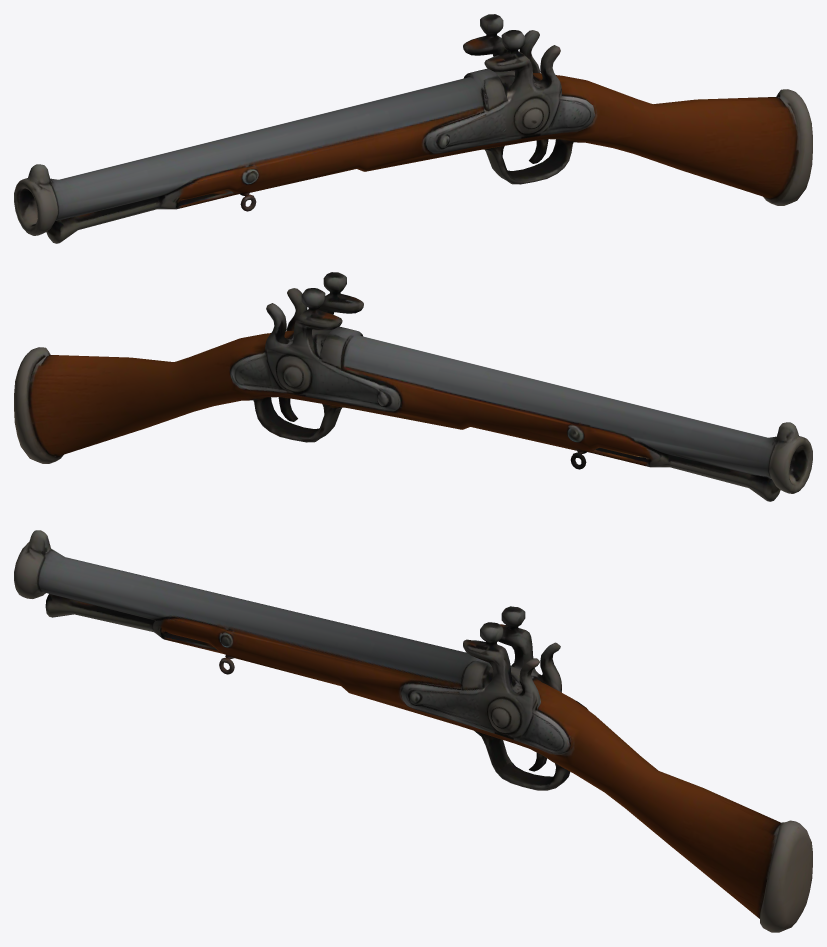
File: Weapons__musket_rifle_11b81839_v2.cluster.glb
The picture shows the model from 3 angles, top to bottom: view 1: azimuth 30°, elevation 25°; view 2: azimuth 150°, elevation 25°; view 3: azimuth 330°, elevation 25°; orthographic projection.
Parts seen in each view (by area): view 1: mesh_input; view 2: mesh_input; view 3: mesh_input.
Boxes of the visible parts, left/top/right/bottom form: mesh_input: left=14, top=14, right=812, bottom=243; mesh_input: left=14, top=272, right=812, bottom=501; mesh_input: left=14, top=530, right=812, bottom=932.
Bounding box in the file's own units: 1.9 × 0.5781 × 0.1601.
1 material, 1 textured.
